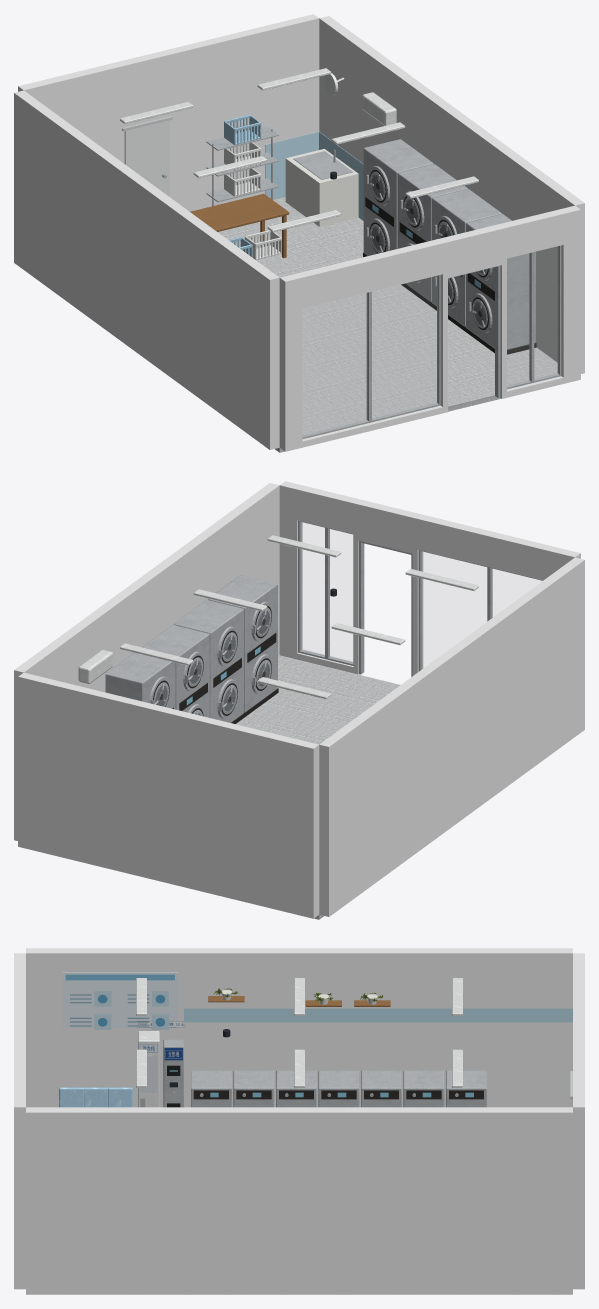
The model's file is tz_xile_interior.glb.
The picture shows the model from 3 angles, top to bottom: view 1: azimuth 30°, elevation 25°; view 2: azimuth 150°, elevation 25°; view 3: azimuth 270°, elevation 25°; orthographic projection. The views are drawn at different scales.
Parts seen in each view (by area): view 1: WALL_W, WALL_N, S_floor, WALL_S, WALL_E, S_steel, S_vc, WALL_Sfix_steel, CEIL_plastic_w, S_plastic_w, S_wood, S_blackmetal (+2 smaller); view 2: WALL_N, WALL_W, WALL_E, WALL_S, S_steel, S_floor, WALL_Sfix_steel, CEIL_plastic_w, S_blackmetal, S_steel_d, S_plastic_w; view 3: WALL_E, WALL_W, S_vc, S_steel, WALL_N, WALL_S, CEIL_plastic_w, S_blackmetal, S_plastic_b, S_plastic_w, S_wood, S_floor (+1 smaller).
Part boxes in pixels (box(x1,y1,x2,y2)): WALL_W: box(14, 90, 279, 449); WALL_N: box(18, 14, 319, 211); S_floor: box(218, 197, 557, 452); WALL_S: box(279, 205, 580, 451); WALL_E: box(319, 16, 584, 373); S_steel: box(162, 126, 535, 349); S_vc: box(122, 73, 486, 326); WALL_Sfix_steel: box(302, 245, 561, 438); CEIL_plastic_w: box(120, 68, 478, 232); S_plastic_w: box(224, 92, 396, 260); S_wood: box(190, 193, 289, 258); S_blackmetal: box(363, 170, 536, 354); WALL_N: box(18, 672, 319, 918); WALL_W: box(319, 557, 584, 916); WALL_E: box(14, 483, 279, 840); WALL_S: box(279, 481, 580, 675); S_steel: box(105, 575, 277, 722); S_floor: box(236, 655, 400, 919); WALL_Sfix_steel: box(298, 520, 542, 676); CEIL_plastic_w: box(120, 535, 478, 699); S_blackmetal: box(153, 605, 278, 723); S_steel_d: box(155, 610, 269, 715); S_plastic_w: box(78, 650, 112, 683); WALL_E: box(26, 1107, 572, 1294); WALL_W: box(26, 948, 572, 1107); S_vc: box(62, 972, 572, 1107); S_steel: box(163, 1039, 486, 1107); WALL_N: box(573, 953, 584, 1289); WALL_S: box(14, 953, 25, 1289); CEIL_plastic_w: box(136, 978, 462, 1087); S_blackmetal: box(193, 1090, 483, 1099); S_plastic_b: box(59, 1087, 132, 1107); S_plastic_w: box(138, 1031, 159, 1107); S_wood: box(208, 996, 390, 1006); S_floor: box(26, 1294, 572, 1294).
Size of the model in its own units: 6.4 by 3.4 by 9.4.
14 materials, 10 textured.
